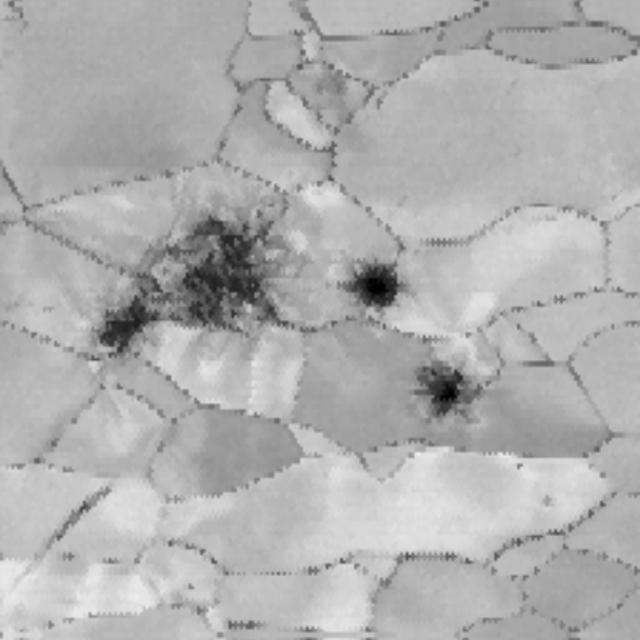good_void: (63, 200, 301, 370), (324, 243, 415, 336), (397, 343, 483, 423), (295, 58, 371, 134), (536, 489, 556, 513), (181, 578, 201, 599), (509, 457, 528, 477)
